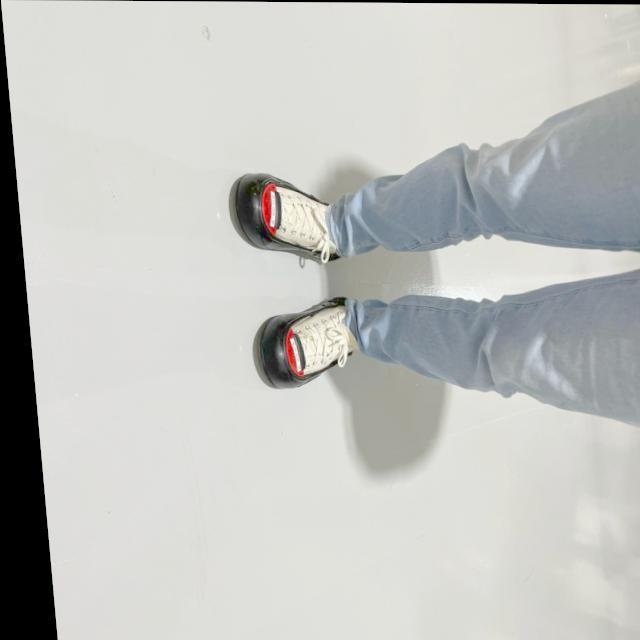shoes: (223, 170, 351, 270), (249, 289, 360, 391)
